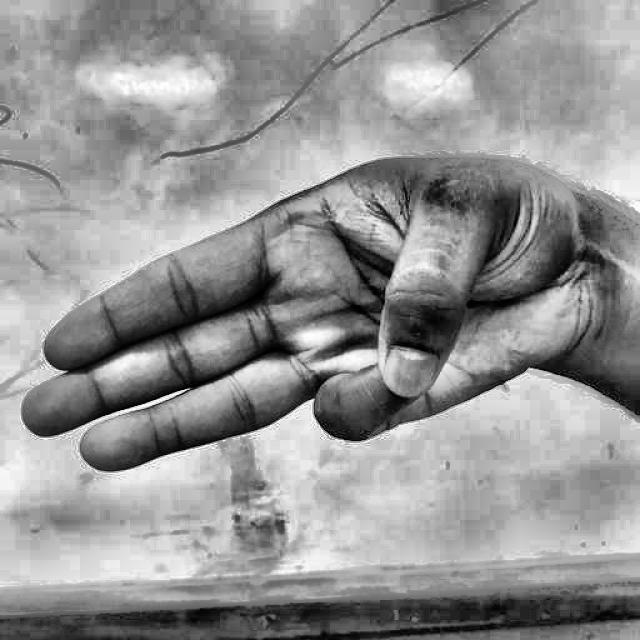Ma: (10, 152, 631, 516)
